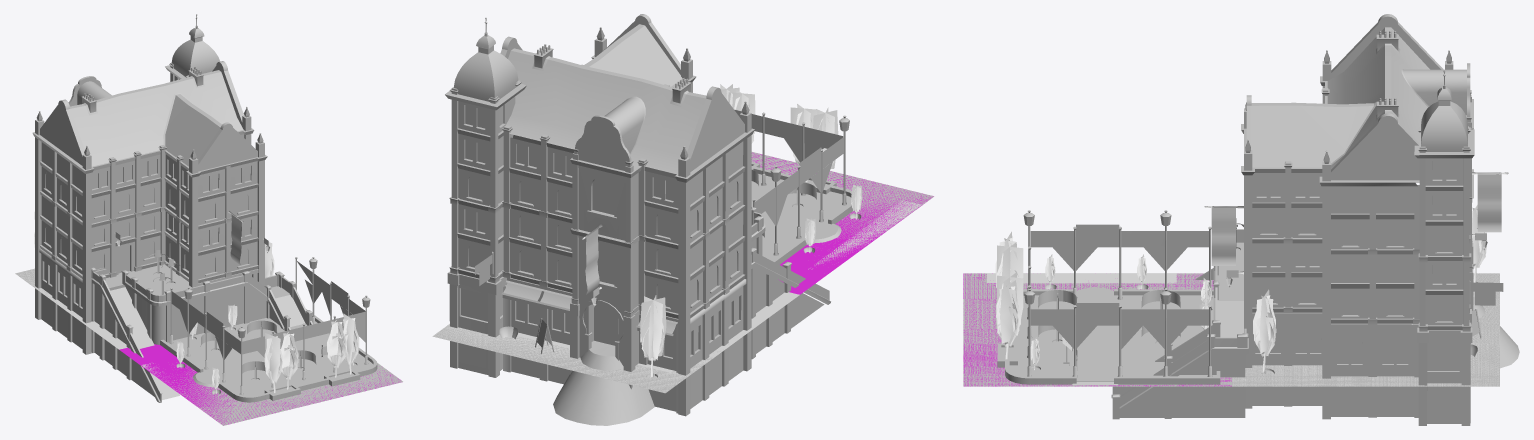
The model's file is restaurant.gltf.
The picture shows the model from 3 angles, left to right: view 1: azimuth 30°, elevation 25°; view 2: azimuth 150°, elevation 25°; view 3: azimuth 270°, elevation 25°; orthographic projection. The views are drawn at different scales.
Parts seen in each view (by area): view 1: _lod0, decal, BuildBlocker.001, prop_25_park_deco_tree_small_03, BuildBlocker, prop_27_park_deco_tree_small_03, prop_26_park_deco_tree_small_03, prop_28_park_deco_tree_small_03, file_19_restaurant_03; view 2: _lod0, decal, BuildBlocker.001, BuildBlocker, prop_42_park_deco_tree_small_03, FeedbackBlocker_IFO.003, file_20_restaurant_03, prop_25_park_deco_tree_small_03, prop_26_park_deco_tree_small_03, prop_27_park_deco_tree_small_03; view 3: _lod0, decal, BuildBlocker.001, BuildBlocker, FeedbackBlocker_IFO.003, file_20_restaurant_03, file_19_restaurant_03, prop_28_park_deco_tree_small_03, prop_46_park_deco_tree_small_03, prop_26_park_deco_tree_small_03, prop_27_park_deco_tree_small_03, prop_42_park_deco_tree_small_03.
Part boxes in pixels (x1,y1,x2,y2): _lod0: (32, 14, 377, 402); decal: (15, 268, 402, 425); BuildBlocker.001: (119, 344, 400, 425); prop_25_park_deco_tree_small_03: (264, 333, 282, 392); BuildBlocker: (16, 269, 127, 349); prop_27_park_deco_tree_small_03: (327, 320, 346, 377); prop_26_park_deco_tree_small_03: (280, 332, 298, 389); prop_28_park_deco_tree_small_03: (343, 313, 359, 374); file_19_restaurant_03: (230, 214, 241, 265); _lod0: (445, 14, 852, 425); decal: (433, 152, 933, 393); BuildBlocker.001: (751, 152, 933, 294); BuildBlocker: (432, 292, 799, 392); prop_42_park_deco_tree_small_03: (640, 295, 666, 377); FeedbackBlocker_IFO.003: (808, 200, 921, 269); file_20_restaurant_03: (585, 228, 599, 294); prop_25_park_deco_tree_small_03: (813, 107, 838, 185); prop_26_park_deco_tree_small_03: (790, 104, 817, 181); prop_27_park_deco_tree_small_03: (728, 88, 755, 143); _lod0: (997, 14, 1519, 425); decal: (963, 273, 1499, 386); BuildBlocker.001: (963, 273, 1231, 386); BuildBlocker: (1232, 273, 1499, 386); FeedbackBlocker_IFO.003: (987, 273, 1176, 283); file_20_restaurant_03: (1477, 173, 1501, 232); file_19_restaurant_03: (1211, 207, 1235, 265); prop_28_park_deco_tree_small_03: (996, 280, 1020, 359); prop_46_park_deco_tree_small_03: (1253, 289, 1276, 373); prop_26_park_deco_tree_small_03: (996, 242, 1023, 287); prop_27_park_deco_tree_small_03: (996, 272, 1023, 349); prop_42_park_deco_tree_small_03: (1472, 205, 1487, 282).
Size of what is drawn, in the model's own units: 3.03 by 4.26 by 6.22.
